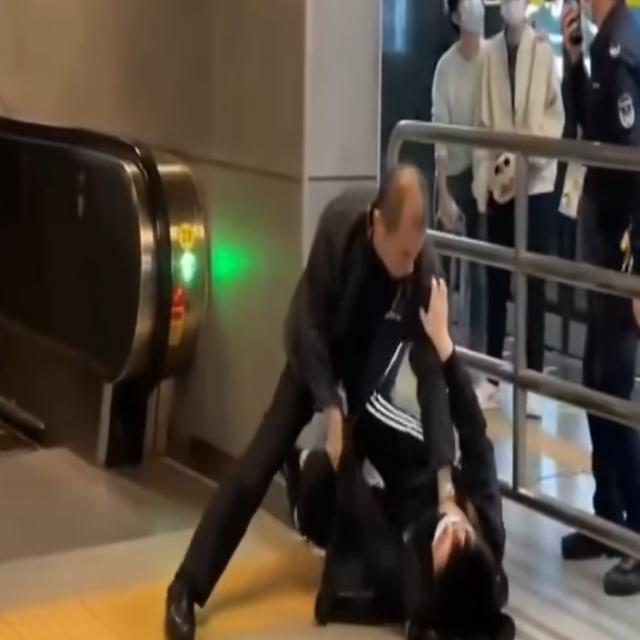fight: (276, 159, 514, 640)
nofight: (560, 0, 640, 603), (475, 8, 560, 409), (421, 0, 488, 374)
